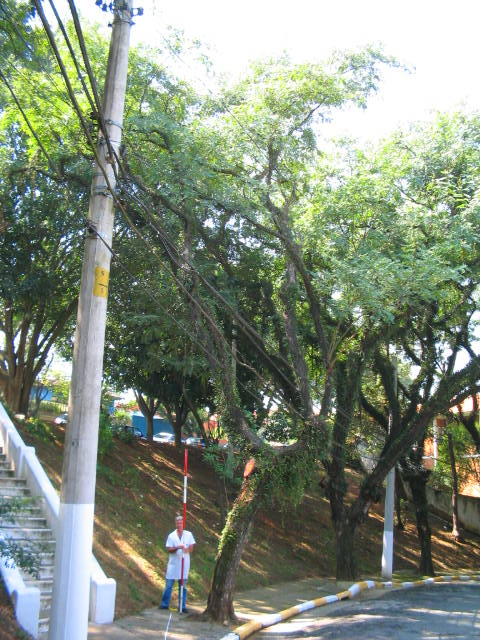crown: (18, 42, 473, 346)
stem: (197, 459, 297, 620), (404, 479, 441, 575), (321, 526, 363, 582)
stick: (175, 449, 192, 616)
tree: (16, 42, 475, 619), (288, 118, 479, 582)
